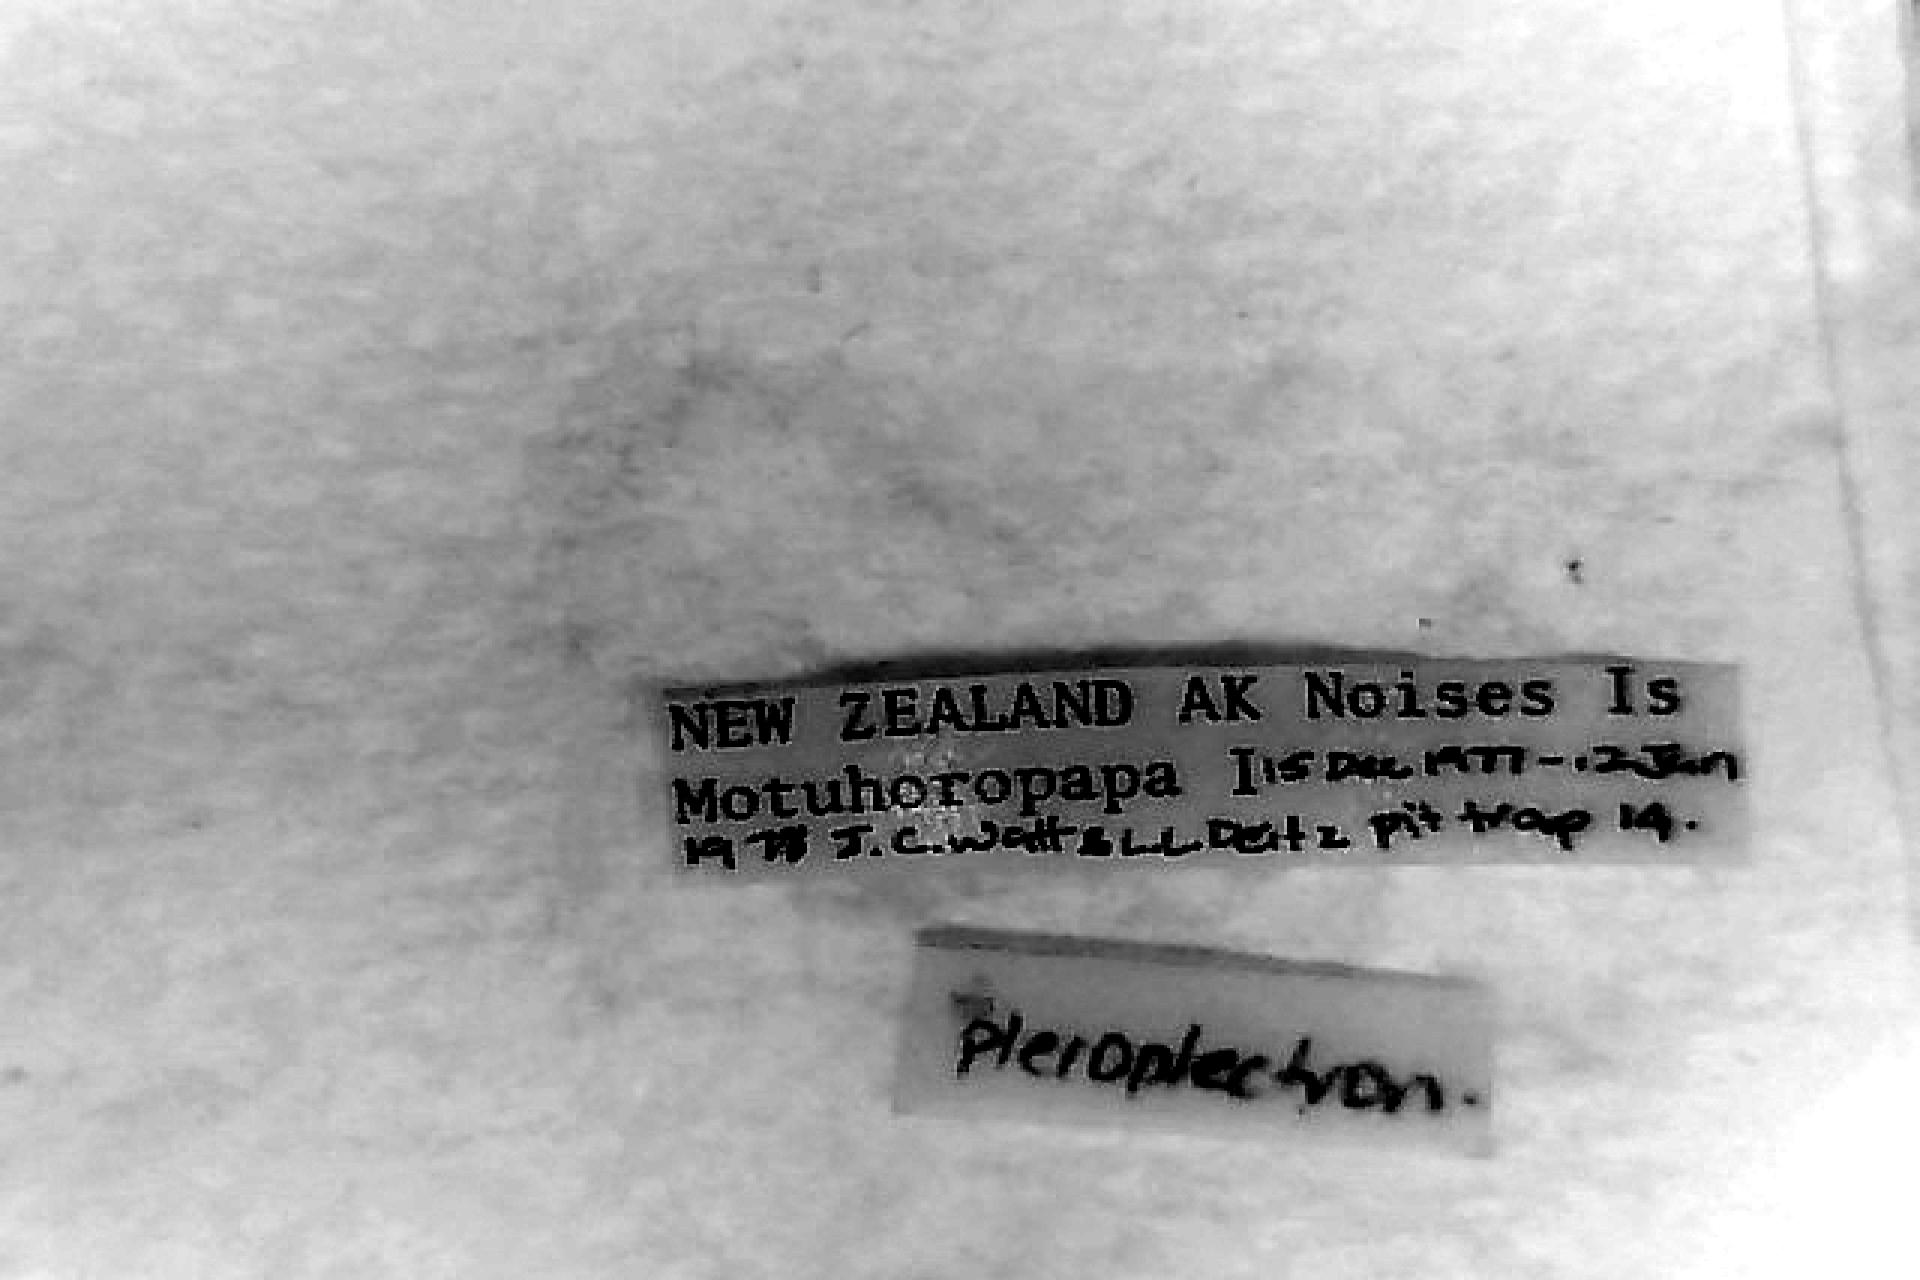hand_label: (896, 930, 1496, 1151)
mixed_label: (660, 660, 1747, 871)
